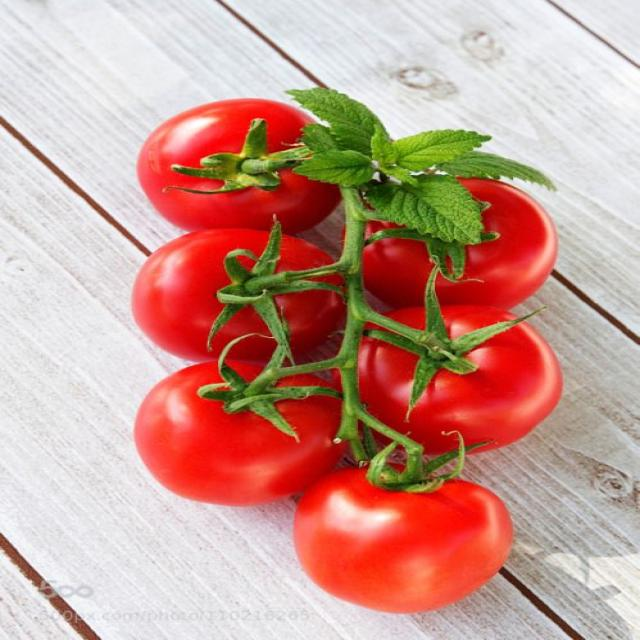level 6: (299, 467, 512, 612), (351, 306, 559, 451), (137, 356, 339, 501), (141, 97, 339, 237), (139, 228, 339, 364), (356, 171, 554, 304)
